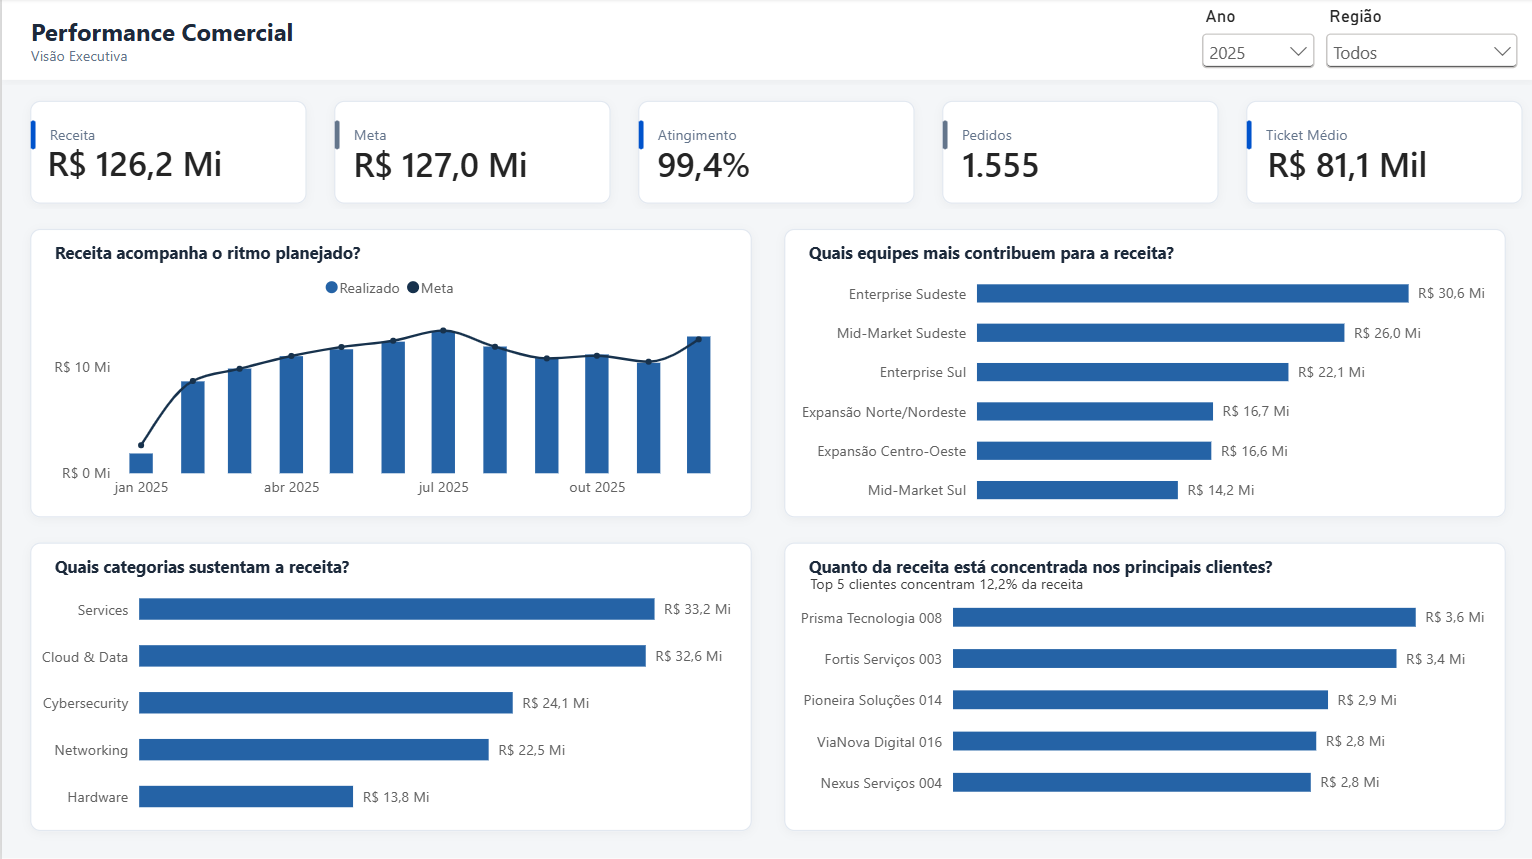

The dashboard page shown, as its layout file describes it:
{"tool":"powerbi","page":{"name":"Visão Executiva","canvas":[1280,720],"ordinal":0},"visuals":[{"type":"cardVisual","fields":{"Data":["_Medidas.Receita"]},"box":[21.7,98.7,199.6,77.7],"z":0},{"type":"cardVisual","fields":{"Data":["_Medidas.Meta"]},"box":[276.9,99.4,199,77],"z":1000},{"type":"cardVisual","fields":{"Data":["_Medidas.Atingimento %"]},"box":[531.5,99.4,199,77],"z":2000},{"type":"cardVisual","fields":{"Data":["_Medidas.Pedidos"]},"box":[786.1,99.4,199,77],"z":3000},{"type":"cardVisual","fields":{"Data":["_Medidas.Ticket Médio"]},"box":[1040.7,99.4,199,77],"z":4000},{"type":"lineClusteredColumnComboChart","fields":{"Category":["DimDate.YearMonth"],"Y":["_Medidas.Receita"],"Y2":["_Medidas.Meta"]},"box":[27.6,213,596,225],"z":5000},{"type":"barChart","fields":{"Category":["DimSeller.TeamName"],"Y":["_Medidas.Receita"]},"box":[657.4,213,596.4,225],"z":6000},{"type":"slicer","fields":{"Values":["DimDate.Year"]},"box":[997.3,6.7,103.6,59.3],"z":7000},{"type":"slicer","fields":{"Values":["DimSeller.Region"]},"box":[1100.9,6.7,170.4,59.3],"z":8000},{"type":"barChart","fields":{"Category":["DimProduct.Category"],"Y":["_Medidas.Receita"]},"box":[27.6,472.8,596.4,225.5],"z":9000},{"type":"barChart","fields":{"Category":["DimCustomer.CustomerName"],"Y":["_Medidas.Receita"]},"box":[657.4,473.6,596.4,209.7],"z":10000},{"type":"cardVisual","fields":{"Data":["_Medidas.Concentração Top 5 %"]},"box":[659,469,505,39.3],"z":11000}]}

Visuals, with their boxes in screenshot pixels (x1, y1, x2, y2), scaled from the page's 1280x720 canvas onto the 1532x859 screenshot:
cardVisual - _Medidas.Receita: 26,118,265,210
cardVisual - _Medidas.Meta: 331,119,570,210
cardVisual - _Medidas.Atingimento %: 636,119,874,210
cardVisual - _Medidas.Pedidos: 941,119,1179,210
cardVisual - _Medidas.Ticket Médio: 1246,119,1484,210
lineClusteredColumnComboChart - DimDate.YearMonth x _Medidas.Receita: 33,254,746,523
barChart - DimSeller.TeamName x _Medidas.Receita: 787,254,1501,523
slicer - DimDate.Year: 1194,8,1318,79
slicer - DimSeller.Region: 1318,8,1522,79
barChart - DimProduct.Category x _Medidas.Receita: 33,564,747,833
barChart - DimCustomer.CustomerName x _Medidas.Receita: 787,565,1501,815
cardVisual - _Medidas.Concentração Top 5 %: 789,560,1393,606
